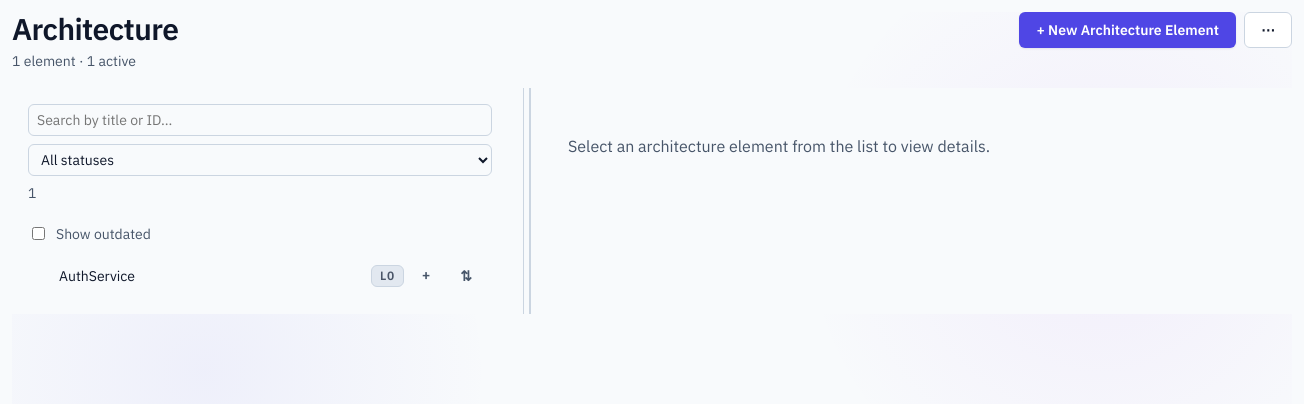
Test: ArchitectureEditors — include_deleted reveals outdated elements (D6) › reveals and badges the outdated element only after the toggle is on
The image size is (1304, 404).
Click the checkbox with test id "arch-list-include-deleted" at (38, 234), box [32,227,45,240]
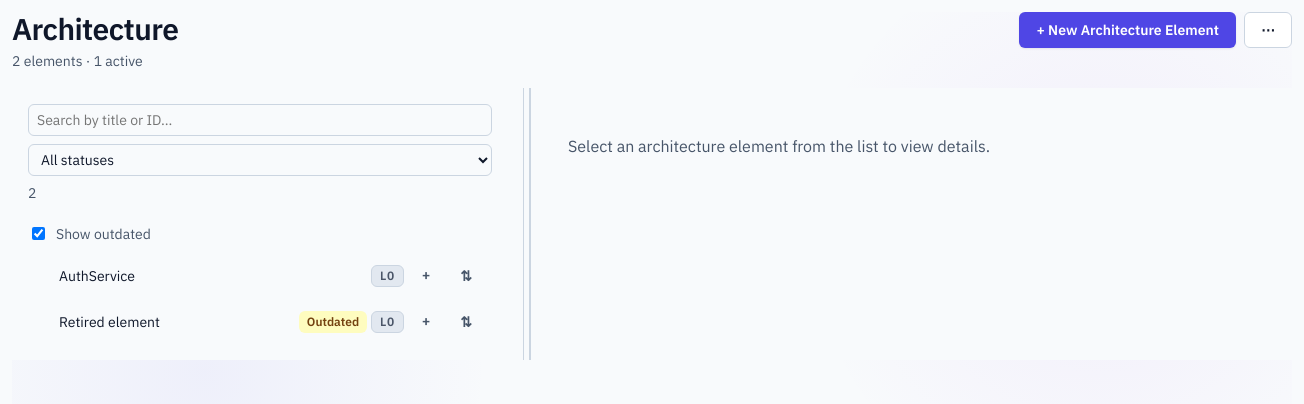
Result: the list item with test id "arch-tree-node-arch-outdated-1" is shown at [28,300,492,344]
Result: the text "Outdated" is shown at [299,310,367,332]
